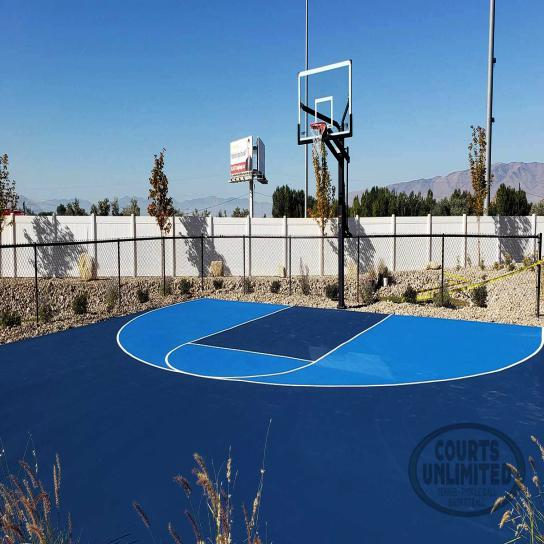basketball-hoop: (310, 120, 326, 159)
